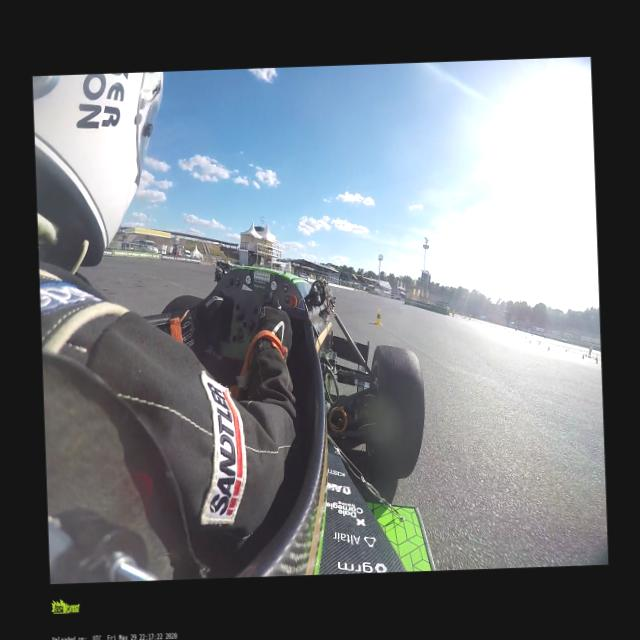yellow_cone: (373, 308, 382, 326), (546, 345, 550, 351), (594, 359, 598, 364), (581, 354, 584, 359), (528, 339, 531, 343), (564, 348, 567, 352), (556, 343, 558, 348), (538, 341, 540, 345)
